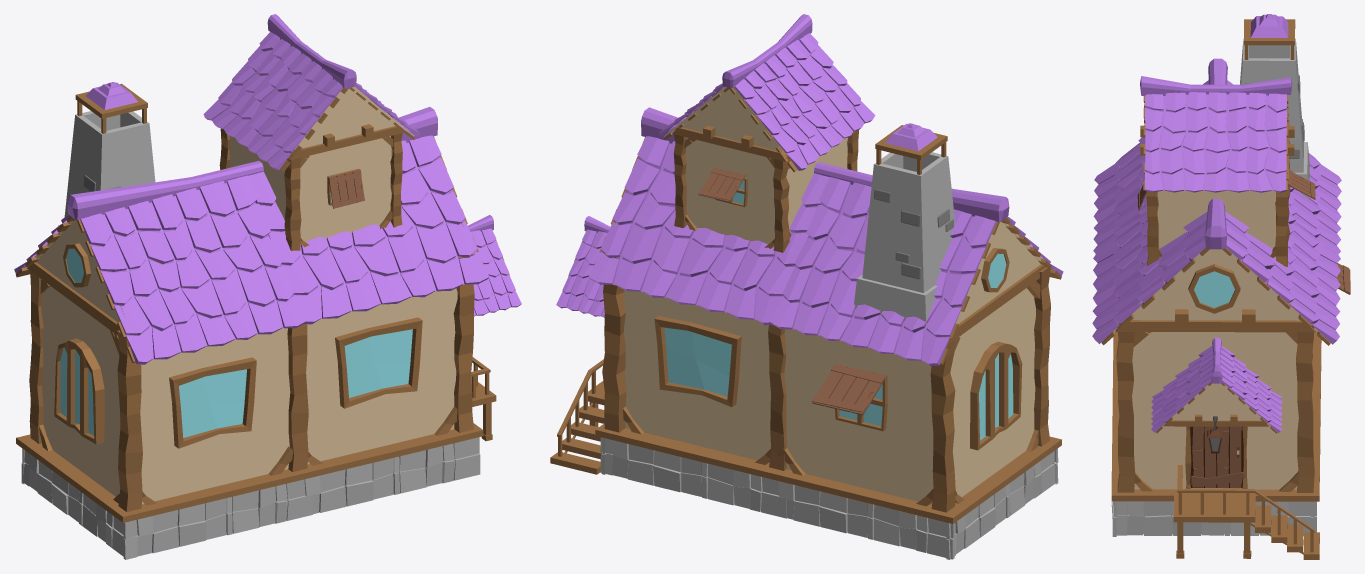
The model's file is casaLila.fbx.
3 views of the same model, side by side, from view 1: azimuth 30°, elevation 25°; view 2: azimuth 150°, elevation 25°; view 3: azimuth 270°, elevation 25° (orthographic). The views are drawn at different scales.
Parts seen in each view (by area): view 1: Plane.027, Plane.018, Plane.025, Plane.031, Plane.036, Plane.040, Cube.741, Plane.159, Plane.034, Plane.160, Cube.531, Cube.073 (+24 smaller); view 2: Plane.018, Plane.027, Plane.026, Cube.741, Plane.024, Plane.036, Plane.040, Plane.041, Plane.032, Plane.043, Cube.110, Plane.045 (+24 smaller); view 3: Plane.016, Plane.036, Plane.018, Plane.027, Cube.528, Cube.741, Plane.020, Plane.021, Plane.1809, Plane.029, Cube.069, Cube.070 (+19 smaller).
Boxes of the visible parts, x1,y1,x2,y2 form: Plane.027: (14, 175, 305, 364); Plane.018: (248, 135, 489, 324); Plane.025: (306, 288, 457, 464); Plane.031: (140, 328, 290, 504); Plane.036: (203, 32, 419, 169); Plane.040: (41, 286, 133, 496); Cube.741: (58, 82, 155, 225); Plane.159: (123, 479, 313, 559); Plane.034: (299, 136, 392, 244); Plane.160: (304, 437, 480, 513); Cube.531: (135, 429, 467, 518); Cube.073: (67, 107, 437, 219); Plane.018: (589, 136, 829, 325); Plane.027: (771, 177, 1063, 366); Plane.026: (784, 329, 933, 504); Cube.741: (854, 123, 955, 325); Plane.024: (624, 290, 770, 463); Plane.036: (659, 33, 875, 170); Plane.040: (950, 288, 1035, 497); Plane.041: (600, 437, 786, 518); Plane.032: (685, 137, 774, 244); Plane.043: (778, 481, 954, 559); Cube.110: (610, 428, 941, 520); Plane.045: (946, 451, 1055, 559); Plane.016: (1132, 332, 1298, 489); Plane.036: (1145, 92, 1287, 192); Plane.018: (1092, 211, 1340, 344); Plane.027: (1093, 80, 1341, 254); Cube.528: (1173, 465, 1319, 559); Cube.741: (1240, 14, 1309, 199); Plane.020: (1132, 249, 1299, 320); Plane.021: (1151, 345, 1282, 432); Plane.1809: (1157, 191, 1275, 257); Plane.029: (1116, 501, 1316, 536); Cube.069: (1191, 426, 1243, 487); Cube.070: (1296, 323, 1314, 492).
Size of the model in its own units: 4354 by 4025 by 2323.
